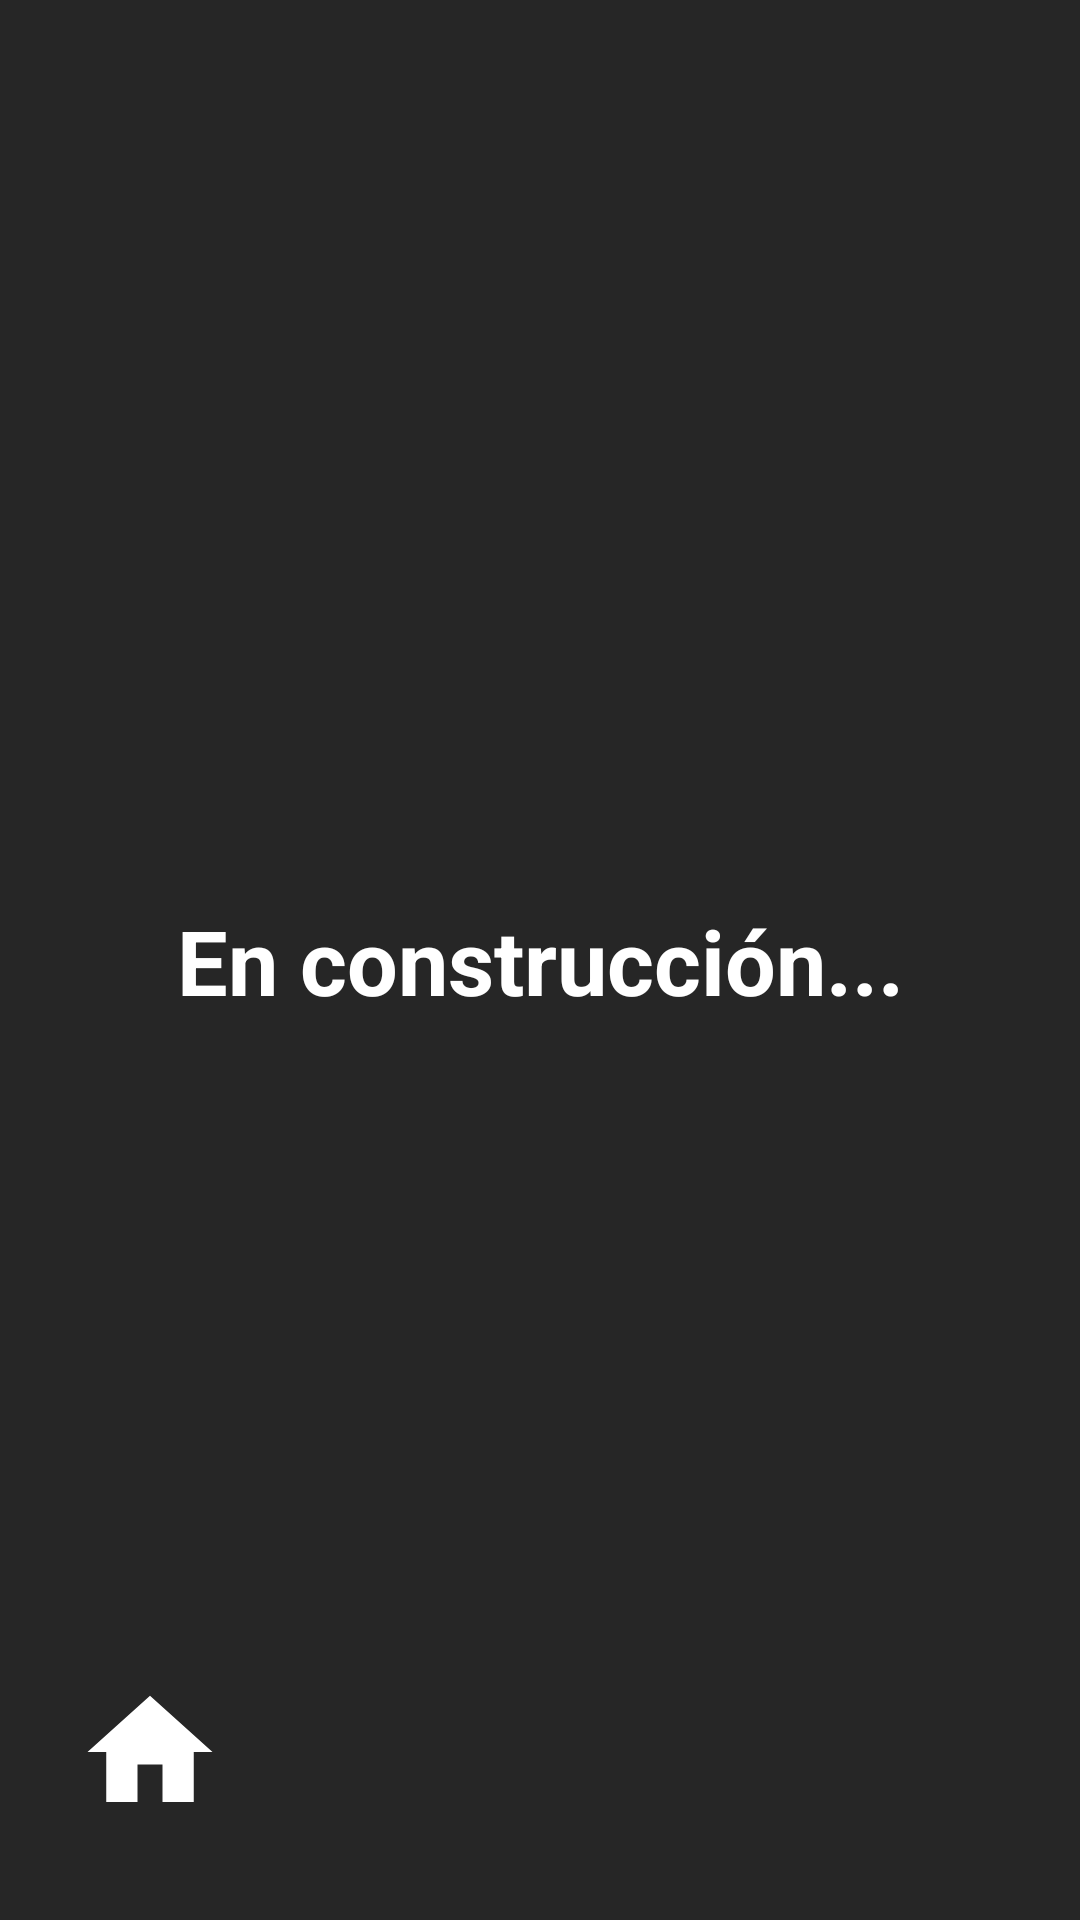

Named icons in this screenshot (1080*1920) and their centers, point (x, y):
Volver al inicio: point (150, 1749)
